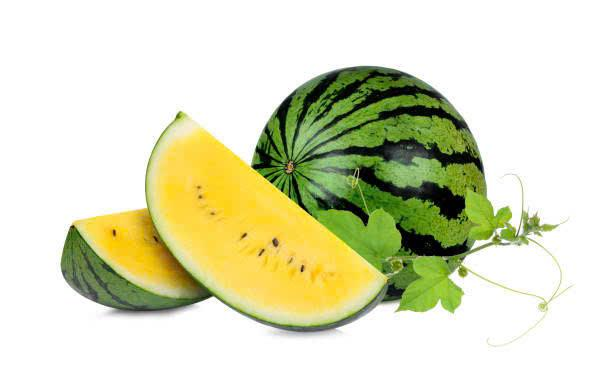watermelon: (300, 53, 544, 280), (157, 108, 385, 338), (47, 215, 186, 320)
